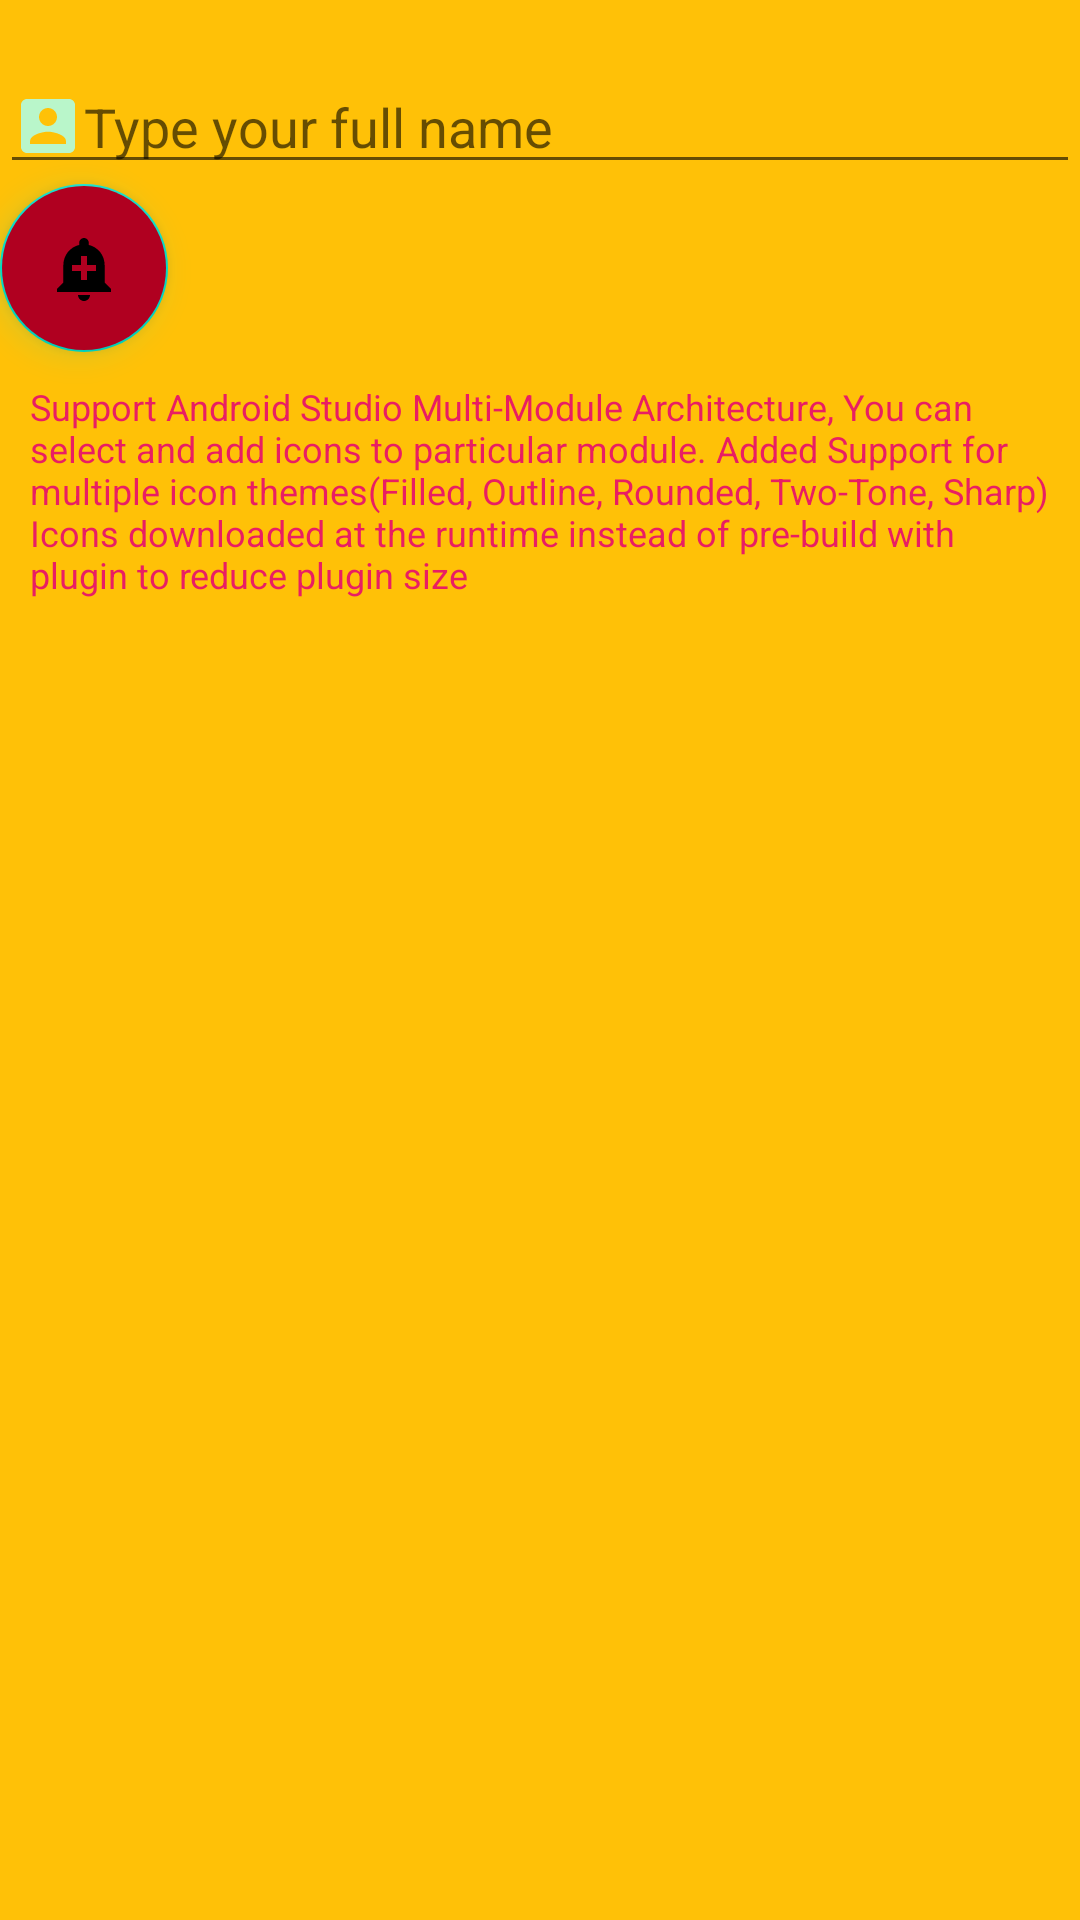

Screen size 1080×1920. Icon name, then its box in pixels as region(x1, y1, x2, y2):
add alert: region(0, 184, 168, 352)
